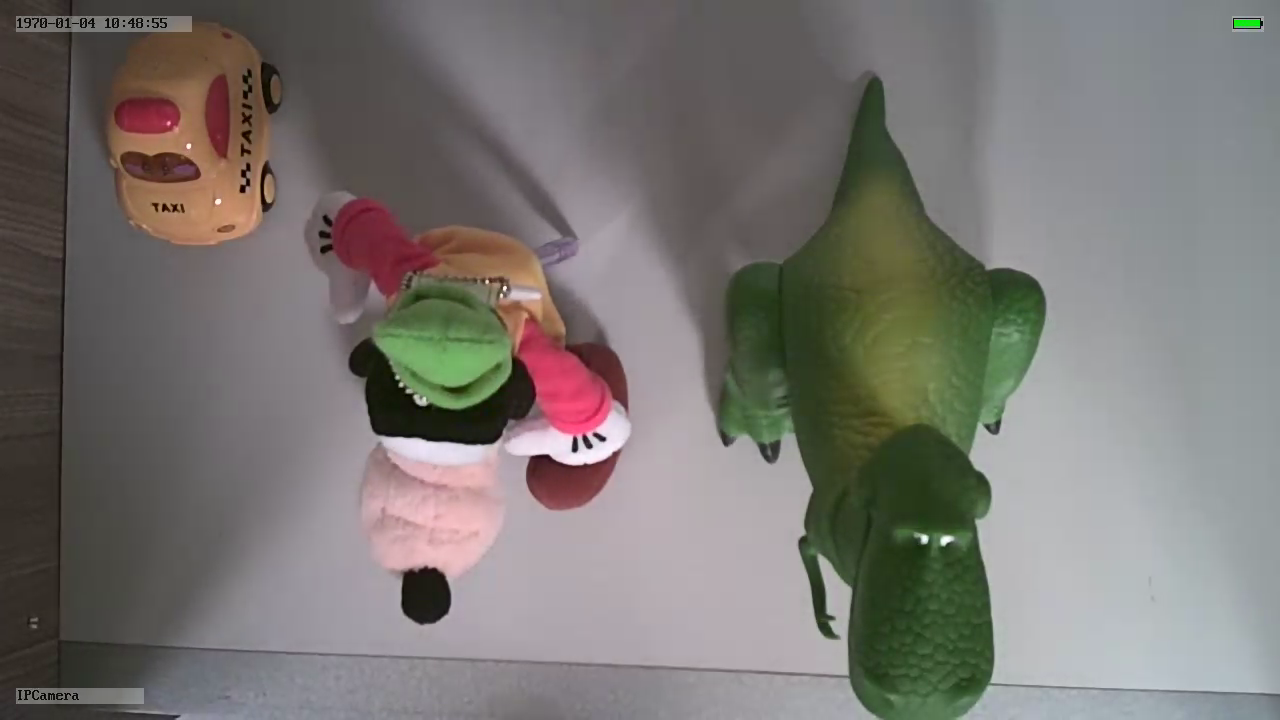goofy: (298, 182, 633, 626)
